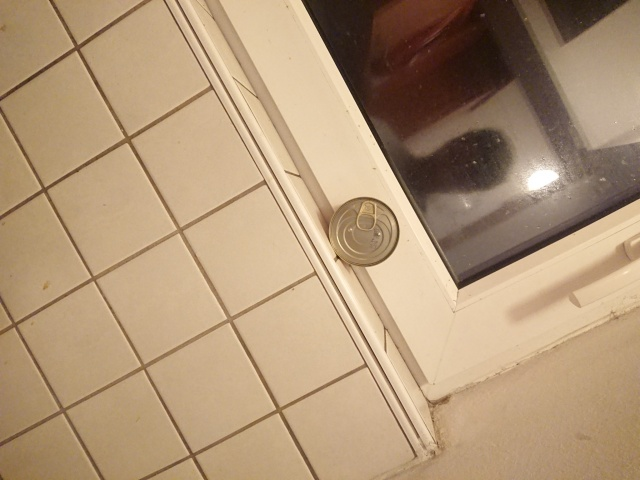Podravka Luncheon Meat 150g: (327, 194, 401, 269)
